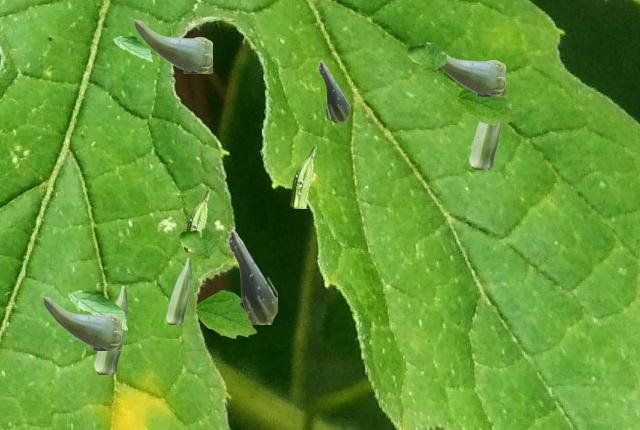okra: (226, 227, 276, 323), (426, 42, 504, 95), (133, 19, 211, 72), (42, 296, 120, 349), (94, 285, 126, 373), (317, 59, 349, 121), (166, 257, 190, 323), (469, 121, 502, 168), (290, 145, 315, 207), (184, 189, 209, 251)
